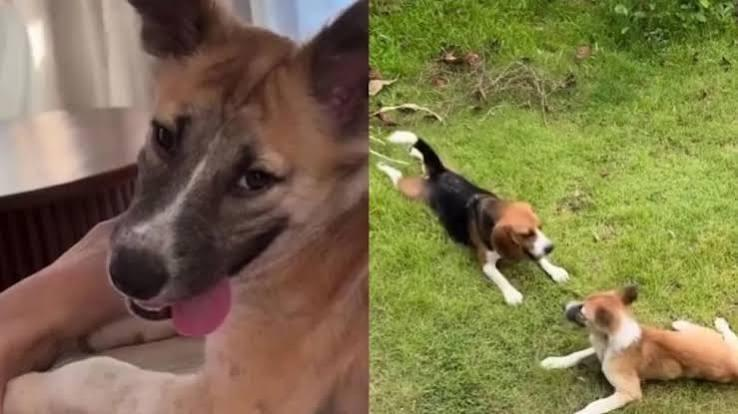adult_dog: (101, 0, 370, 407), (389, 130, 570, 307), (537, 283, 738, 414)
